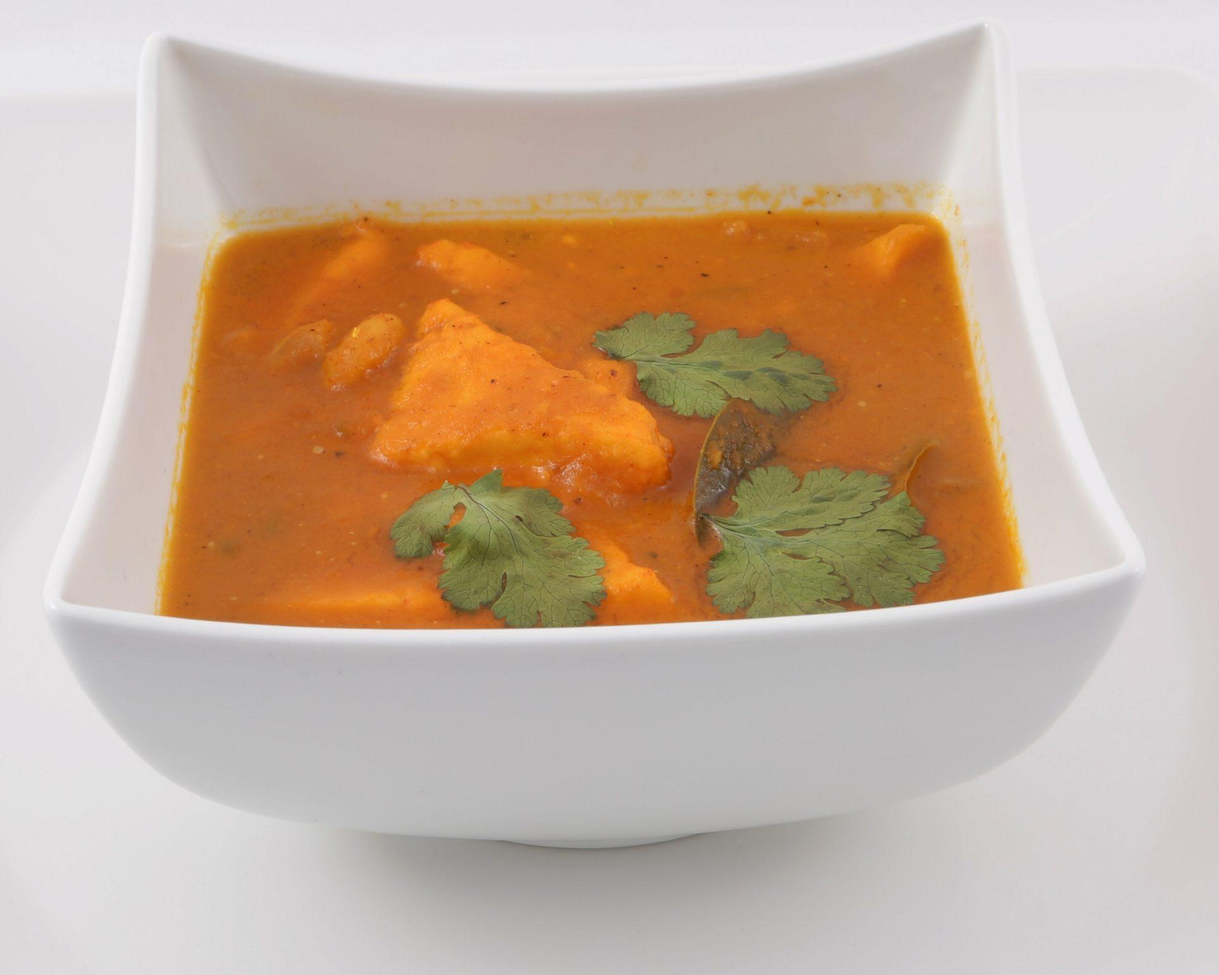ShahiPaneer: (155, 201, 1025, 631)
